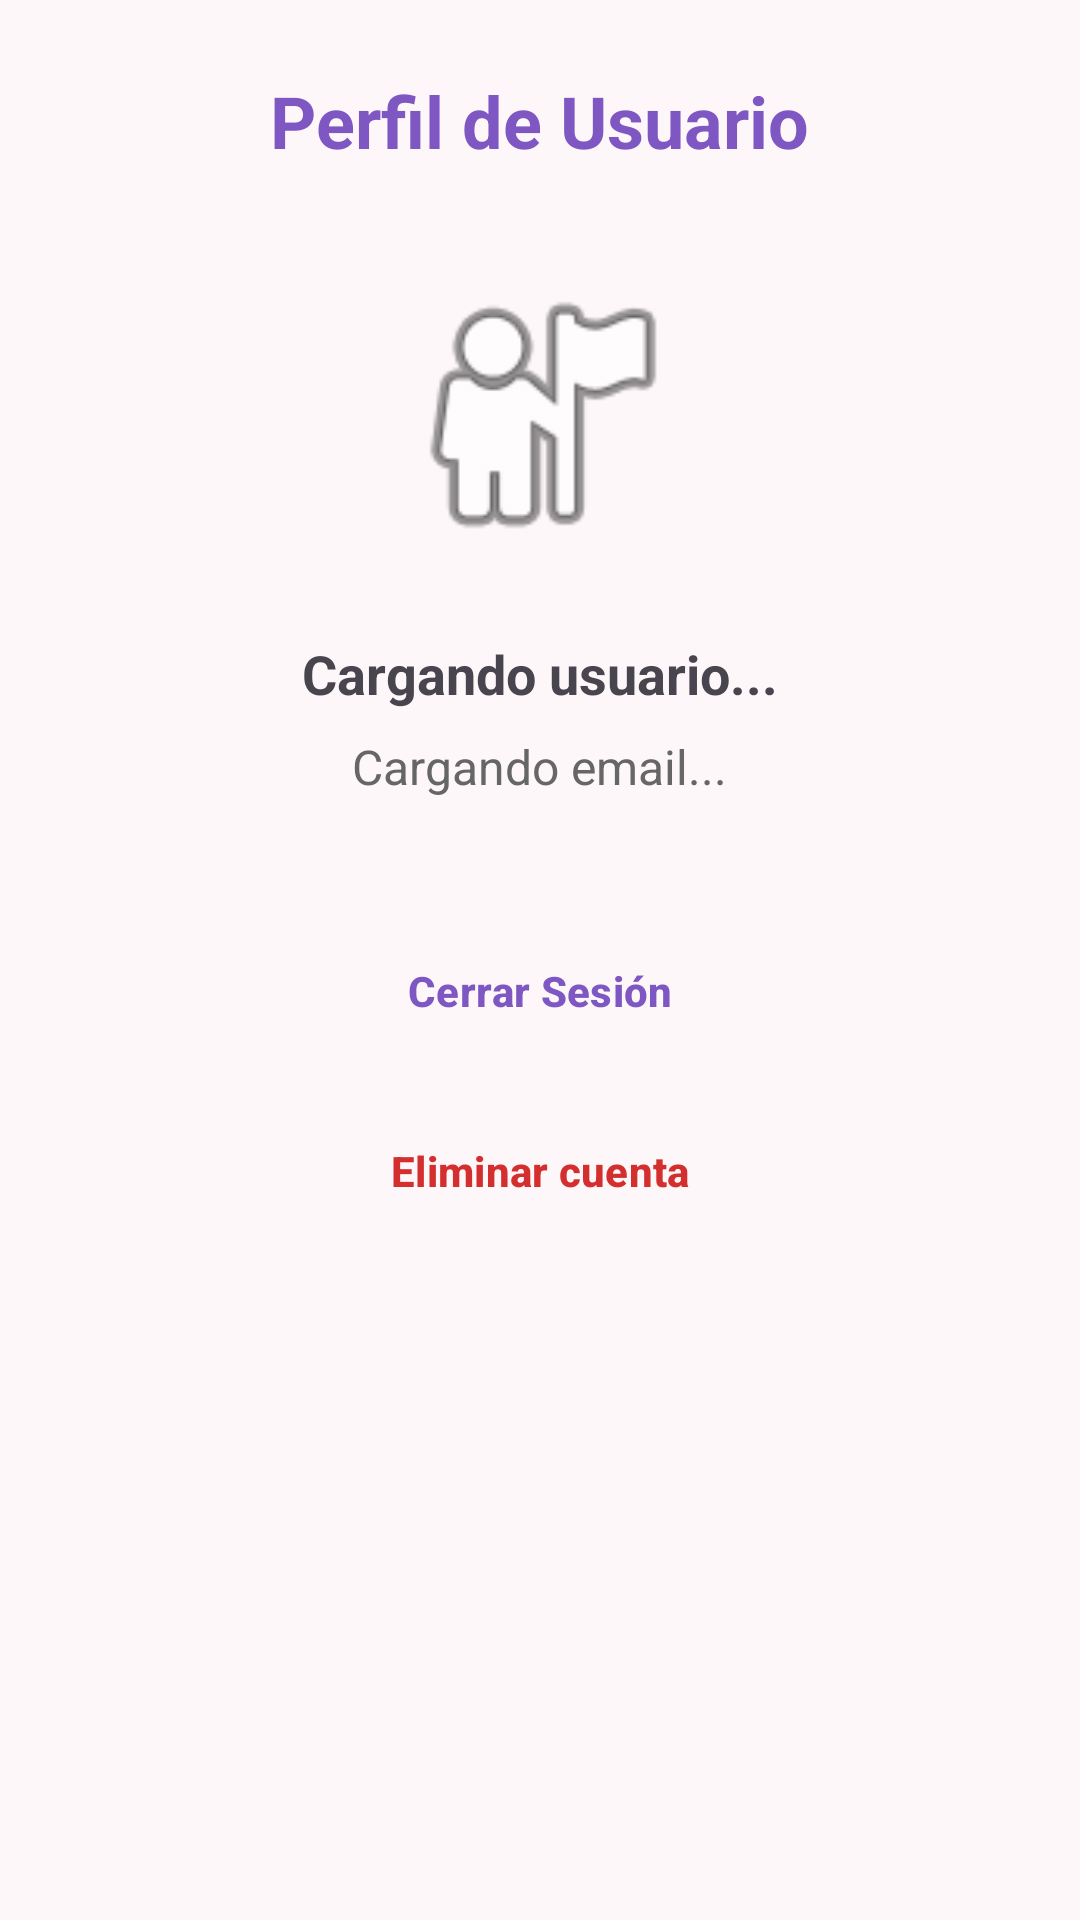

Icons on this 1080×1920 Android screen, each with the point to tap as point (x, y):
Foto de perfil: point (543, 415)
